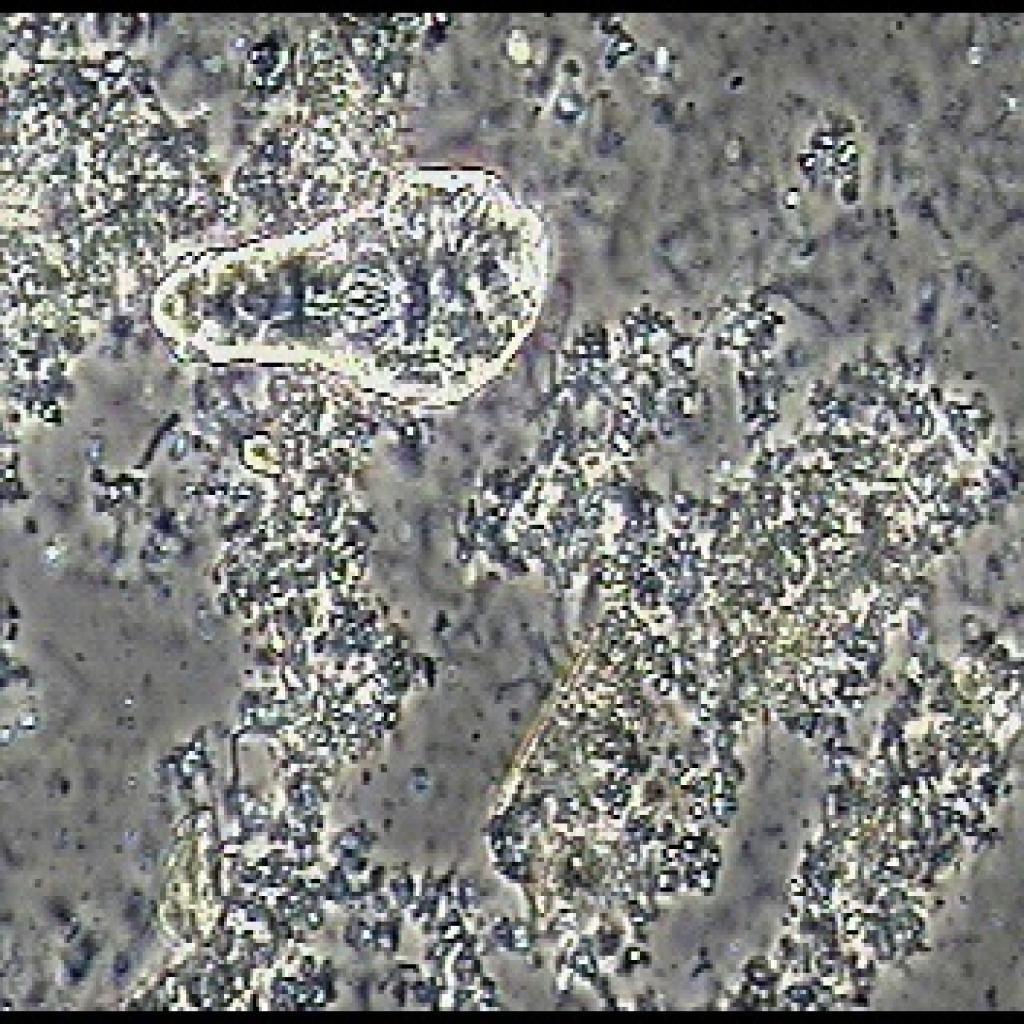Rotatoria: (145, 152, 579, 442)
